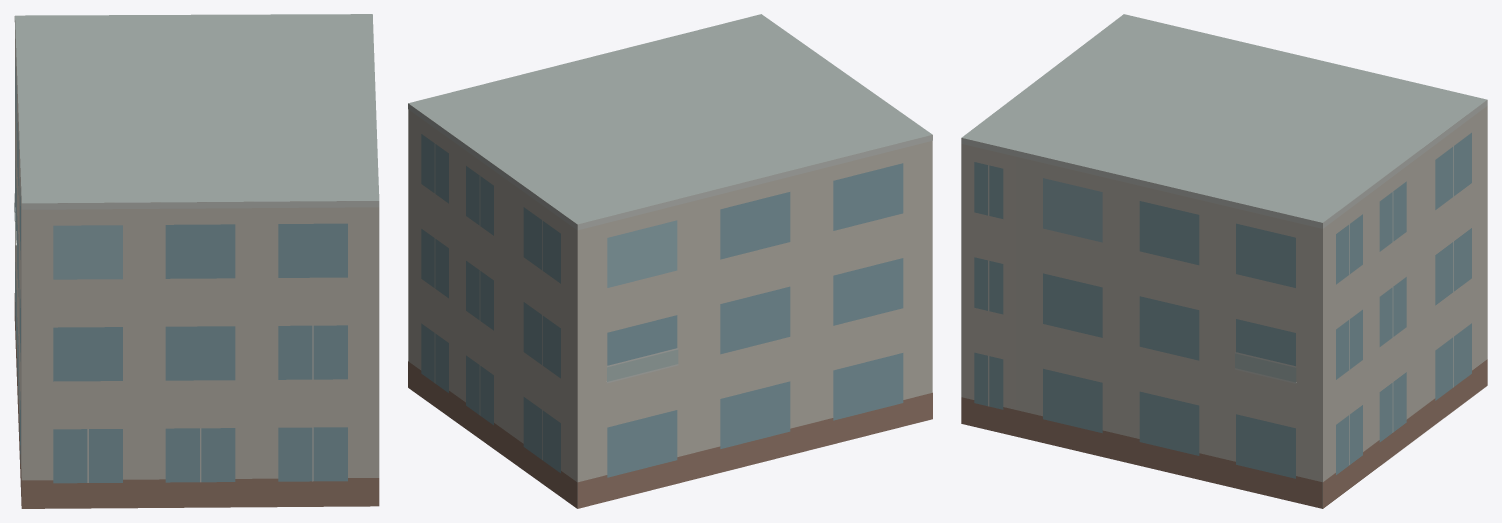
Rendered from survey-upis-32508418.glb.
3 renders of one model, left to right at view 1: azimuth 30°, elevation 25°; view 2: azimuth 150°, elevation 25°; view 3: azimuth 270°, elevation 25°, orthographic. The views are drawn at different scales.
Visible parts, largest first — view 1: survey-upis-32508418.tmp; view 2: survey-upis-32508418.tmp; view 3: survey-upis-32508418.tmp.
Boxes of the visible parts, x1,y1,x2,y2 form: survey-upis-32508418.tmp: [14, 14, 379, 508]; survey-upis-32508418.tmp: [408, 14, 932, 508]; survey-upis-32508418.tmp: [961, 14, 1487, 508].
Size of the model in its own units: 18.18 by 11.6 by 19.35.
